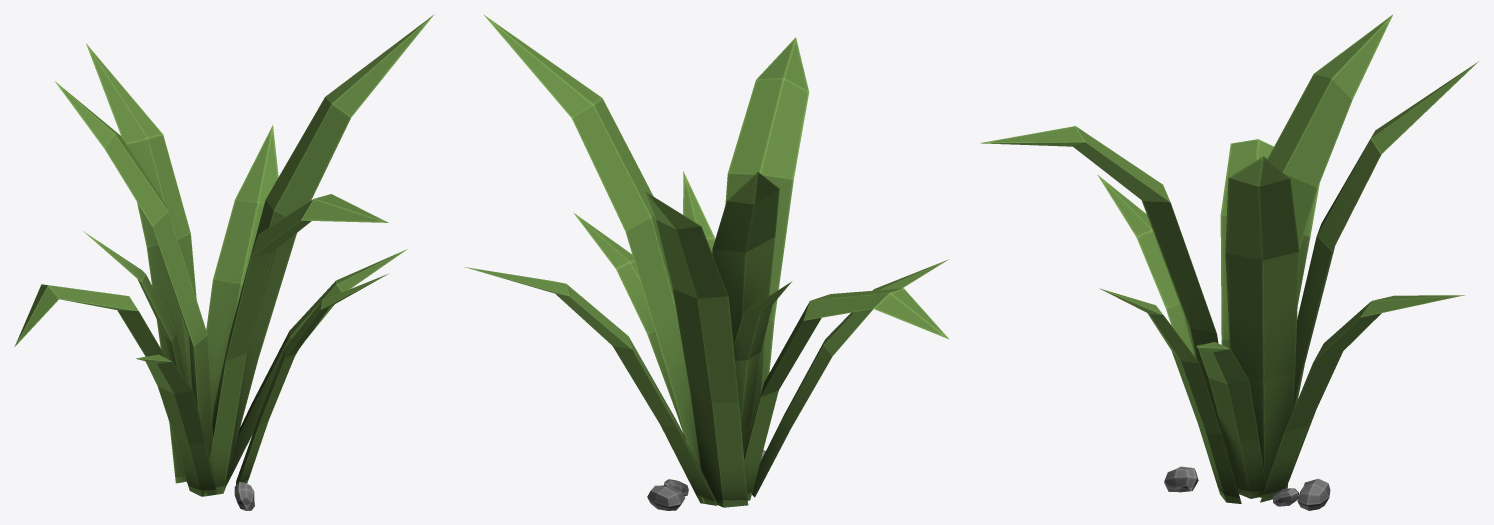
File: Houseplant01.fbx
3 renders of one model, left to right at view 1: azimuth 30°, elevation 25°; view 2: azimuth 150°, elevation 25°; view 3: azimuth 270°, elevation 25°, orthographic. The views are drawn at different scales.
Parts seen in each view (by area): view 1: Houseplant; view 2: Houseplant; view 3: Houseplant.
Part boxes in pixels (x1,y1,x2,y2): Houseplant: [14, 15, 433, 510]; Houseplant: [464, 14, 949, 510]; Houseplant: [980, 14, 1478, 510].
Size of the model in its own units: 485 by 439 by 434.
1 material, 1 textured.
